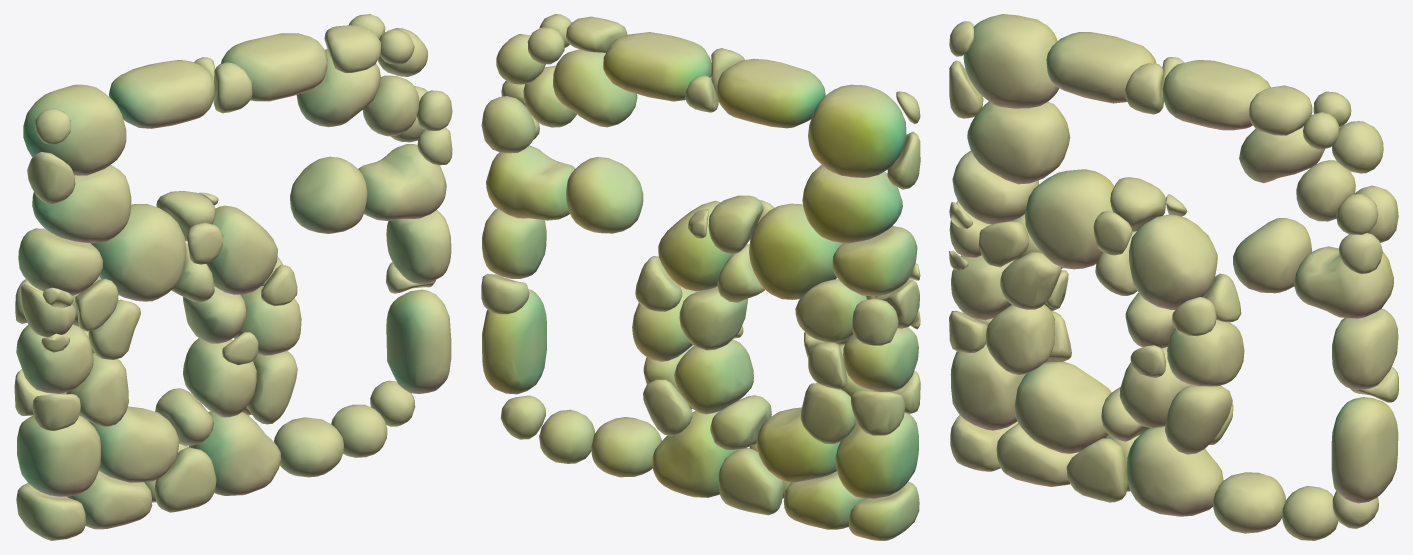
File: balloons_pinched_low.glb
3 renders of one model, left to right at view 1: azimuth 30°, elevation 25°; view 2: azimuth 150°, elevation 25°; view 3: azimuth 330°, elevation 25°, orthographic. The views are drawn at different scales.
Size of the model in its own units: 1.07 by 1.07 by 0.1781.
